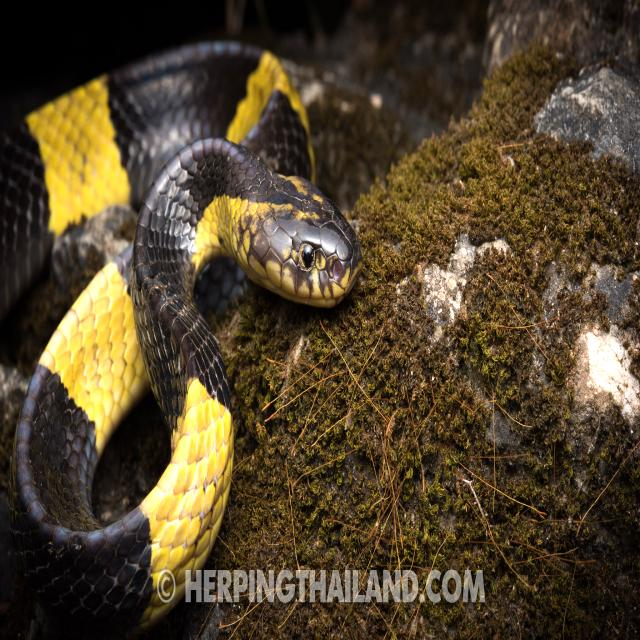Bungarus fasciatus: (0, 43, 362, 636)
snake: (0, 43, 362, 636)
